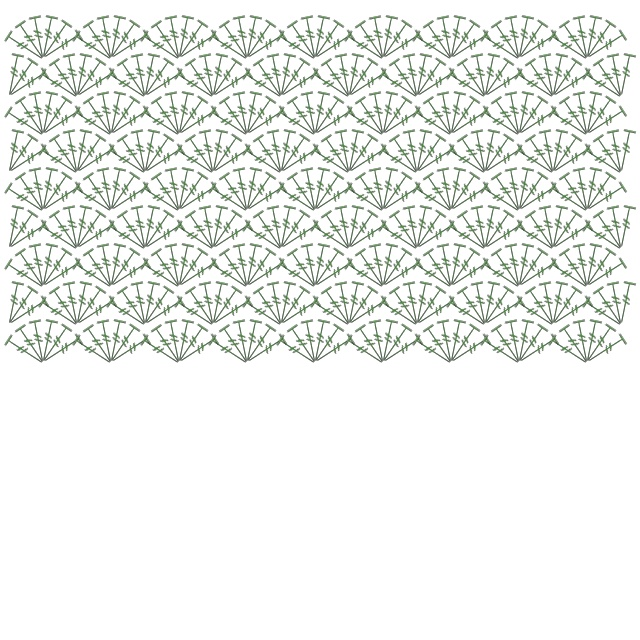fan: (13, 18, 51, 62), (37, 18, 75, 62), (81, 18, 119, 62), (105, 18, 143, 62), (149, 18, 187, 62), (173, 18, 211, 62), (217, 18, 255, 62), (241, 18, 279, 62), (285, 18, 323, 62), (309, 18, 347, 62), (353, 18, 391, 62), (377, 18, 415, 62), (421, 18, 459, 62), (445, 18, 483, 62), (489, 18, 527, 62), (513, 18, 551, 62), (557, 18, 595, 62), (581, 18, 619, 62), (3, 56, 41, 100), (47, 56, 85, 100), (71, 56, 109, 100), (115, 56, 153, 100), (139, 56, 177, 100), (183, 56, 221, 100), (207, 56, 245, 100), (251, 56, 289, 100), (275, 56, 313, 100), (319, 56, 357, 100), (343, 56, 381, 100), (387, 56, 425, 100), (411, 56, 449, 100), (455, 56, 493, 100), (479, 56, 517, 100), (523, 56, 561, 100), (547, 56, 585, 100), (591, 56, 629, 100), (13, 94, 51, 138), (37, 94, 75, 138), (81, 94, 119, 138), (105, 94, 143, 138), (149, 94, 187, 138), (173, 94, 211, 138), (217, 94, 255, 138), (241, 94, 279, 138), (285, 94, 323, 138), (309, 94, 347, 138), (353, 94, 391, 138), (377, 94, 415, 138), (421, 94, 459, 138), (445, 94, 483, 138), (489, 94, 527, 138), (513, 94, 551, 138), (557, 94, 595, 138), (581, 94, 619, 138), (3, 132, 41, 176), (47, 132, 85, 176), (71, 132, 109, 176), (115, 132, 153, 176), (139, 132, 177, 176), (183, 132, 221, 176), (207, 132, 245, 176), (251, 132, 289, 176), (275, 132, 313, 176), (319, 132, 357, 176), (343, 132, 381, 176), (387, 132, 425, 176), (411, 132, 449, 176), (455, 132, 493, 176), (479, 132, 517, 176), (523, 132, 561, 176), (547, 132, 585, 176), (591, 132, 629, 176), (13, 170, 51, 214), (37, 170, 75, 214), (81, 170, 119, 214), (105, 170, 143, 214), (149, 170, 187, 214), (173, 170, 211, 214), (217, 170, 255, 214), (241, 170, 279, 214), (285, 170, 323, 214), (309, 170, 347, 214), (353, 170, 391, 214), (377, 170, 415, 214), (421, 170, 459, 214), (445, 170, 483, 214), (489, 170, 527, 214), (513, 170, 551, 214), (557, 170, 595, 214), (581, 170, 619, 214), (3, 208, 41, 252), (47, 208, 85, 252), (71, 208, 109, 252), (115, 208, 153, 252), (139, 208, 177, 252), (183, 208, 221, 252), (207, 208, 245, 252), (251, 208, 289, 252), (275, 208, 313, 252), (319, 208, 357, 252), (343, 208, 381, 252), (387, 208, 425, 252), (411, 208, 449, 252), (455, 208, 493, 252), (479, 208, 517, 252), (523, 208, 561, 252), (547, 208, 585, 252), (591, 208, 629, 252), (13, 246, 51, 290), (37, 246, 75, 290), (81, 246, 119, 290), (105, 246, 143, 290), (149, 246, 187, 290), (173, 246, 211, 290), (217, 246, 255, 290), (241, 246, 279, 290), (285, 246, 323, 290), (309, 246, 347, 290), (353, 246, 391, 290), (377, 246, 415, 290), (421, 246, 459, 290), (445, 246, 483, 290), (489, 246, 527, 290), (513, 246, 551, 290), (557, 246, 595, 290), (581, 246, 619, 290), (3, 284, 41, 328), (47, 284, 85, 328), (71, 284, 109, 328), (115, 284, 153, 328), (139, 284, 177, 328), (183, 284, 221, 328), (207, 284, 245, 328), (251, 284, 289, 328), (275, 284, 313, 328), (319, 284, 357, 328), (343, 284, 381, 328), (387, 284, 425, 328), (411, 284, 449, 328), (455, 284, 493, 328), (479, 284, 517, 328), (523, 284, 561, 328), (547, 284, 585, 328), (591, 284, 629, 328), (13, 322, 51, 366), (37, 322, 75, 366), (81, 322, 119, 366), (105, 322, 143, 366), (149, 322, 187, 366), (173, 322, 211, 366), (217, 322, 255, 366), (241, 322, 279, 366), (285, 322, 323, 366), (309, 322, 347, 366), (353, 322, 391, 366), (377, 322, 415, 366), (421, 322, 459, 366), (445, 322, 483, 366), (489, 322, 527, 366), (513, 322, 551, 366), (557, 322, 595, 366), (581, 322, 619, 366), (4, 28, 48, 65), (40, 28, 84, 65), (72, 28, 116, 65), (108, 28, 152, 65), (140, 28, 184, 65), (176, 28, 220, 65), (208, 28, 252, 65), (244, 28, 288, 65), (276, 28, 320, 65), (312, 28, 356, 65), (344, 28, 388, 65), (380, 28, 424, 65), (412, 28, 456, 65), (448, 28, 492, 65), (480, 28, 524, 65), (516, 28, 560, 65), (548, 28, 592, 65), (584, 28, 628, 65), (6, 66, 50, 103), (38, 66, 82, 103), (74, 66, 118, 103), (106, 66, 150, 103), (142, 66, 186, 103), (174, 66, 218, 103), (210, 66, 254, 103), (242, 66, 286, 103), (278, 66, 322, 103), (310, 66, 354, 103), (346, 66, 390, 103), (378, 66, 422, 103), (414, 66, 458, 103), (446, 66, 490, 103), (482, 66, 526, 103), (514, 66, 558, 103), (550, 66, 594, 103), (582, 66, 626, 103), (4, 104, 48, 141), (40, 104, 84, 141), (72, 104, 116, 141), (108, 104, 152, 141), (140, 104, 184, 141), (176, 104, 220, 141), (208, 104, 252, 141), (244, 104, 288, 141), (276, 104, 320, 141), (312, 104, 356, 141), (344, 104, 388, 141), (380, 104, 424, 141), (412, 104, 456, 141), (448, 104, 492, 141), (480, 104, 524, 141), (516, 104, 560, 141), (548, 104, 592, 141), (584, 104, 628, 141), (6, 142, 50, 179), (38, 142, 82, 179), (74, 142, 118, 179), (106, 142, 150, 179), (142, 142, 186, 179), (174, 142, 218, 179), (210, 142, 254, 179), (242, 142, 286, 179), (278, 142, 322, 179), (310, 142, 354, 179), (346, 142, 390, 179), (378, 142, 422, 179), (414, 142, 458, 179), (446, 142, 490, 179), (482, 142, 526, 179), (514, 142, 558, 179), (550, 142, 594, 179), (582, 142, 626, 179), (4, 180, 48, 217), (40, 180, 84, 217), (72, 180, 116, 217), (108, 180, 152, 217), (140, 180, 184, 217), (176, 180, 220, 217), (208, 180, 252, 217), (244, 180, 288, 217), (276, 180, 320, 217), (312, 180, 356, 217), (344, 180, 388, 217), (380, 180, 424, 217), (412, 180, 456, 217), (448, 180, 492, 217), (480, 180, 524, 217), (516, 180, 560, 217), (548, 180, 592, 217), (584, 180, 628, 217), (6, 218, 50, 255), (38, 218, 82, 255), (74, 218, 118, 255), (106, 218, 150, 255), (142, 218, 186, 255), (174, 218, 218, 255), (210, 218, 254, 255), (242, 218, 286, 255), (278, 218, 322, 255), (310, 218, 354, 255), (346, 218, 390, 255), (378, 218, 422, 255), (414, 218, 458, 255), (446, 218, 490, 255), (482, 218, 526, 255), (514, 218, 558, 255), (550, 218, 594, 255), (582, 218, 626, 255), (4, 256, 48, 293), (40, 256, 84, 293), (72, 256, 116, 293), (108, 256, 152, 293), (140, 256, 184, 293), (176, 256, 220, 293), (208, 256, 252, 293), (244, 256, 288, 293), (276, 256, 320, 293), (312, 256, 356, 293), (344, 256, 388, 293), (380, 256, 424, 293), (412, 256, 456, 293), (448, 256, 492, 293), (480, 256, 524, 293), (516, 256, 560, 293), (548, 256, 592, 293), (584, 256, 628, 293), (6, 294, 50, 331), (38, 294, 82, 331), (74, 294, 118, 331), (106, 294, 150, 331), (142, 294, 186, 331), (174, 294, 218, 331), (210, 294, 254, 331), (242, 294, 286, 331), (278, 294, 322, 331), (310, 294, 354, 331), (346, 294, 390, 331), (378, 294, 422, 331), (414, 294, 458, 331), (446, 294, 490, 331), (482, 294, 526, 331), (514, 294, 558, 331), (550, 294, 594, 331), (582, 294, 626, 331), (4, 332, 48, 369), (40, 332, 84, 369), (72, 332, 116, 369), (108, 332, 152, 369), (140, 332, 184, 369), (176, 332, 220, 369), (208, 332, 252, 369), (244, 332, 288, 369), (276, 332, 320, 369), (312, 332, 356, 369), (344, 332, 388, 369), (380, 332, 424, 369), (412, 332, 456, 369), (448, 332, 492, 369), (480, 332, 524, 369), (516, 332, 560, 369), (548, 332, 592, 369), (584, 332, 628, 369), (28, 14, 52, 60), (36, 14, 60, 60), (96, 14, 120, 60), (104, 14, 128, 60), (164, 14, 188, 60), (172, 14, 196, 60), (232, 14, 256, 60), (240, 14, 264, 60), (300, 14, 324, 60), (308, 14, 332, 60), (368, 14, 392, 60), (376, 14, 400, 60), (436, 14, 460, 60), (444, 14, 468, 60), (504, 14, 528, 60), (512, 14, 536, 60), (572, 14, 596, 60), (580, 14, 604, 60), (2, 52, 26, 98), (62, 52, 86, 98), (70, 52, 94, 98), (130, 52, 154, 98), (138, 52, 162, 98), (198, 52, 222, 98), (206, 52, 230, 98), (266, 52, 290, 98), (274, 52, 298, 98), (334, 52, 358, 98), (342, 52, 366, 98), (402, 52, 426, 98), (410, 52, 434, 98), (470, 52, 494, 98), (478, 52, 502, 98), (538, 52, 562, 98), (546, 52, 570, 98), (606, 52, 630, 98), (614, 52, 638, 98), (28, 90, 52, 136), (36, 90, 60, 136), (96, 90, 120, 136), (104, 90, 128, 136), (164, 90, 188, 136), (172, 90, 196, 136), (232, 90, 256, 136), (240, 90, 264, 136), (300, 90, 324, 136), (308, 90, 332, 136), (368, 90, 392, 136), (376, 90, 400, 136), (436, 90, 460, 136), (444, 90, 468, 136), (504, 90, 528, 136), (512, 90, 536, 136), (572, 90, 596, 136), (580, 90, 604, 136), (2, 128, 26, 174), (62, 128, 86, 174), (70, 128, 94, 174), (130, 128, 154, 174), (138, 128, 162, 174), (198, 128, 222, 174), (206, 128, 230, 174), (266, 128, 290, 174), (274, 128, 298, 174), (334, 128, 358, 174), (342, 128, 366, 174), (402, 128, 426, 174), (410, 128, 434, 174), (470, 128, 494, 174), (478, 128, 502, 174), (538, 128, 562, 174), (546, 128, 570, 174), (606, 128, 630, 174), (614, 128, 638, 174), (28, 166, 52, 212), (36, 166, 60, 212), (96, 166, 120, 212), (104, 166, 128, 212), (164, 166, 188, 212), (172, 166, 196, 212), (232, 166, 256, 212), (240, 166, 264, 212), (300, 166, 324, 212), (308, 166, 332, 212), (368, 166, 392, 212), (376, 166, 400, 212), (436, 166, 460, 212), (444, 166, 468, 212), (504, 166, 528, 212), (512, 166, 536, 212), (572, 166, 596, 212), (580, 166, 604, 212), (2, 204, 26, 250), (62, 204, 86, 250), (70, 204, 94, 250), (130, 204, 154, 250), (138, 204, 162, 250), (198, 204, 222, 250), (206, 204, 230, 250), (266, 204, 290, 250), (274, 204, 298, 250), (334, 204, 358, 250), (342, 204, 366, 250), (402, 204, 426, 250), (410, 204, 434, 250), (470, 204, 494, 250), (478, 204, 502, 250), (538, 204, 562, 250), (546, 204, 570, 250), (606, 204, 630, 250), (614, 204, 638, 250), (28, 242, 52, 288), (36, 242, 60, 288), (96, 242, 120, 288), (104, 242, 128, 288), (164, 242, 188, 288), (172, 242, 196, 288), (232, 242, 256, 288), (240, 242, 264, 288), (300, 242, 324, 288), (308, 242, 332, 288), (368, 242, 392, 288), (376, 242, 400, 288), (436, 242, 460, 288), (444, 242, 468, 288), (504, 242, 528, 288), (512, 242, 536, 288), (572, 242, 596, 288), (580, 242, 604, 288), (2, 280, 26, 326), (62, 280, 86, 326), (70, 280, 94, 326), (130, 280, 154, 326), (138, 280, 162, 326), (198, 280, 222, 326), (206, 280, 230, 326), (266, 280, 290, 326), (274, 280, 298, 326), (334, 280, 358, 326), (342, 280, 366, 326), (402, 280, 426, 326), (410, 280, 434, 326), (470, 280, 494, 326), (478, 280, 502, 326), (538, 280, 562, 326), (546, 280, 570, 326), (606, 280, 630, 326), (614, 280, 638, 326), (28, 318, 52, 364), (36, 318, 60, 364), (96, 318, 120, 364), (104, 318, 128, 364), (164, 318, 188, 364), (172, 318, 196, 364), (232, 318, 256, 364), (240, 318, 264, 364), (300, 318, 324, 364), (308, 318, 332, 364), (368, 318, 392, 364), (376, 318, 400, 364), (436, 318, 460, 364), (444, 318, 468, 364), (504, 318, 528, 364), (512, 318, 536, 364), (572, 318, 596, 364), (580, 318, 604, 364)
